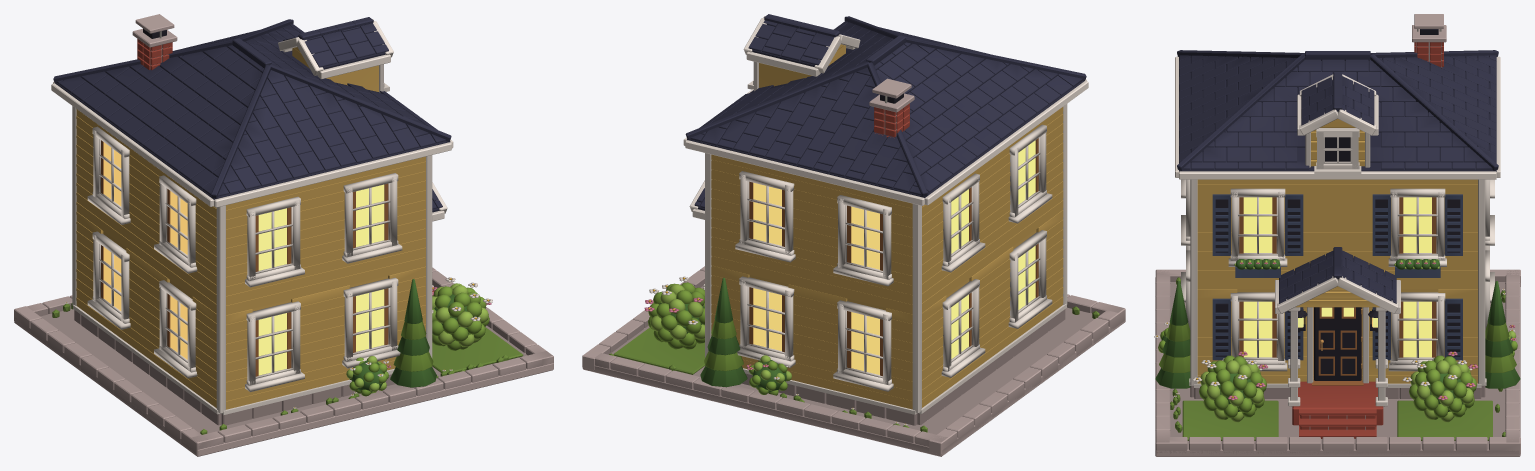
Rendered from bld.house-d.glb.
3 views of the same model, side by side, from view 1: azimuth 30°, elevation 25°; view 2: azimuth 150°, elevation 25°; view 3: azimuth 270°, elevation 25° (orthographic).
Visible parts, largest first — view 1: object 5, body, roof; view 2: object 5, body, roof; view 3: object 5, roof, body, door_front.
Boxes of the visible parts, x1,y1,x2,y2 form: object 5: (14, 126, 553, 456); body: (72, 106, 434, 425); roof: (51, 14, 453, 221); object 5: (582, 124, 1125, 456); body: (703, 104, 1067, 425); roof: (683, 14, 1088, 219); object 5: (1154, 179, 1520, 456); roof: (1175, 14, 1500, 313); body: (1189, 179, 1486, 438); door_front: (1314, 307, 1362, 380).
Bounding box in the file's own units: 9 × 7.5 × 8.04.
